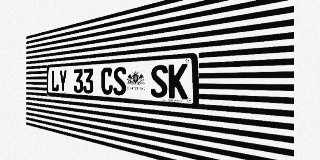3: (83, 68, 93, 94), (74, 69, 83, 93)
C: (101, 67, 113, 95)
K: (168, 63, 188, 99)
L: (51, 70, 59, 92)
S: (151, 64, 168, 98), (113, 67, 126, 96)
Y: (59, 70, 67, 92)
